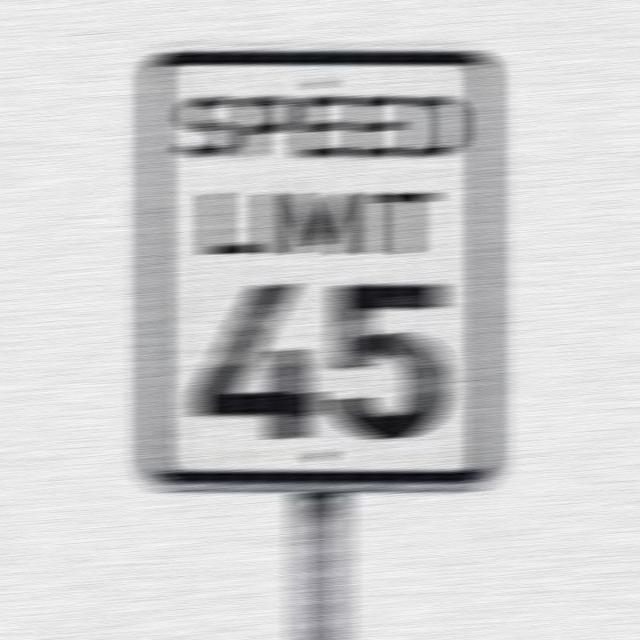speedLimit45: (147, 65, 499, 481)
